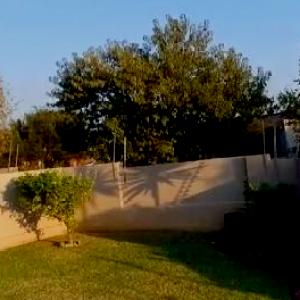follow: (285, 190, 300, 299)
